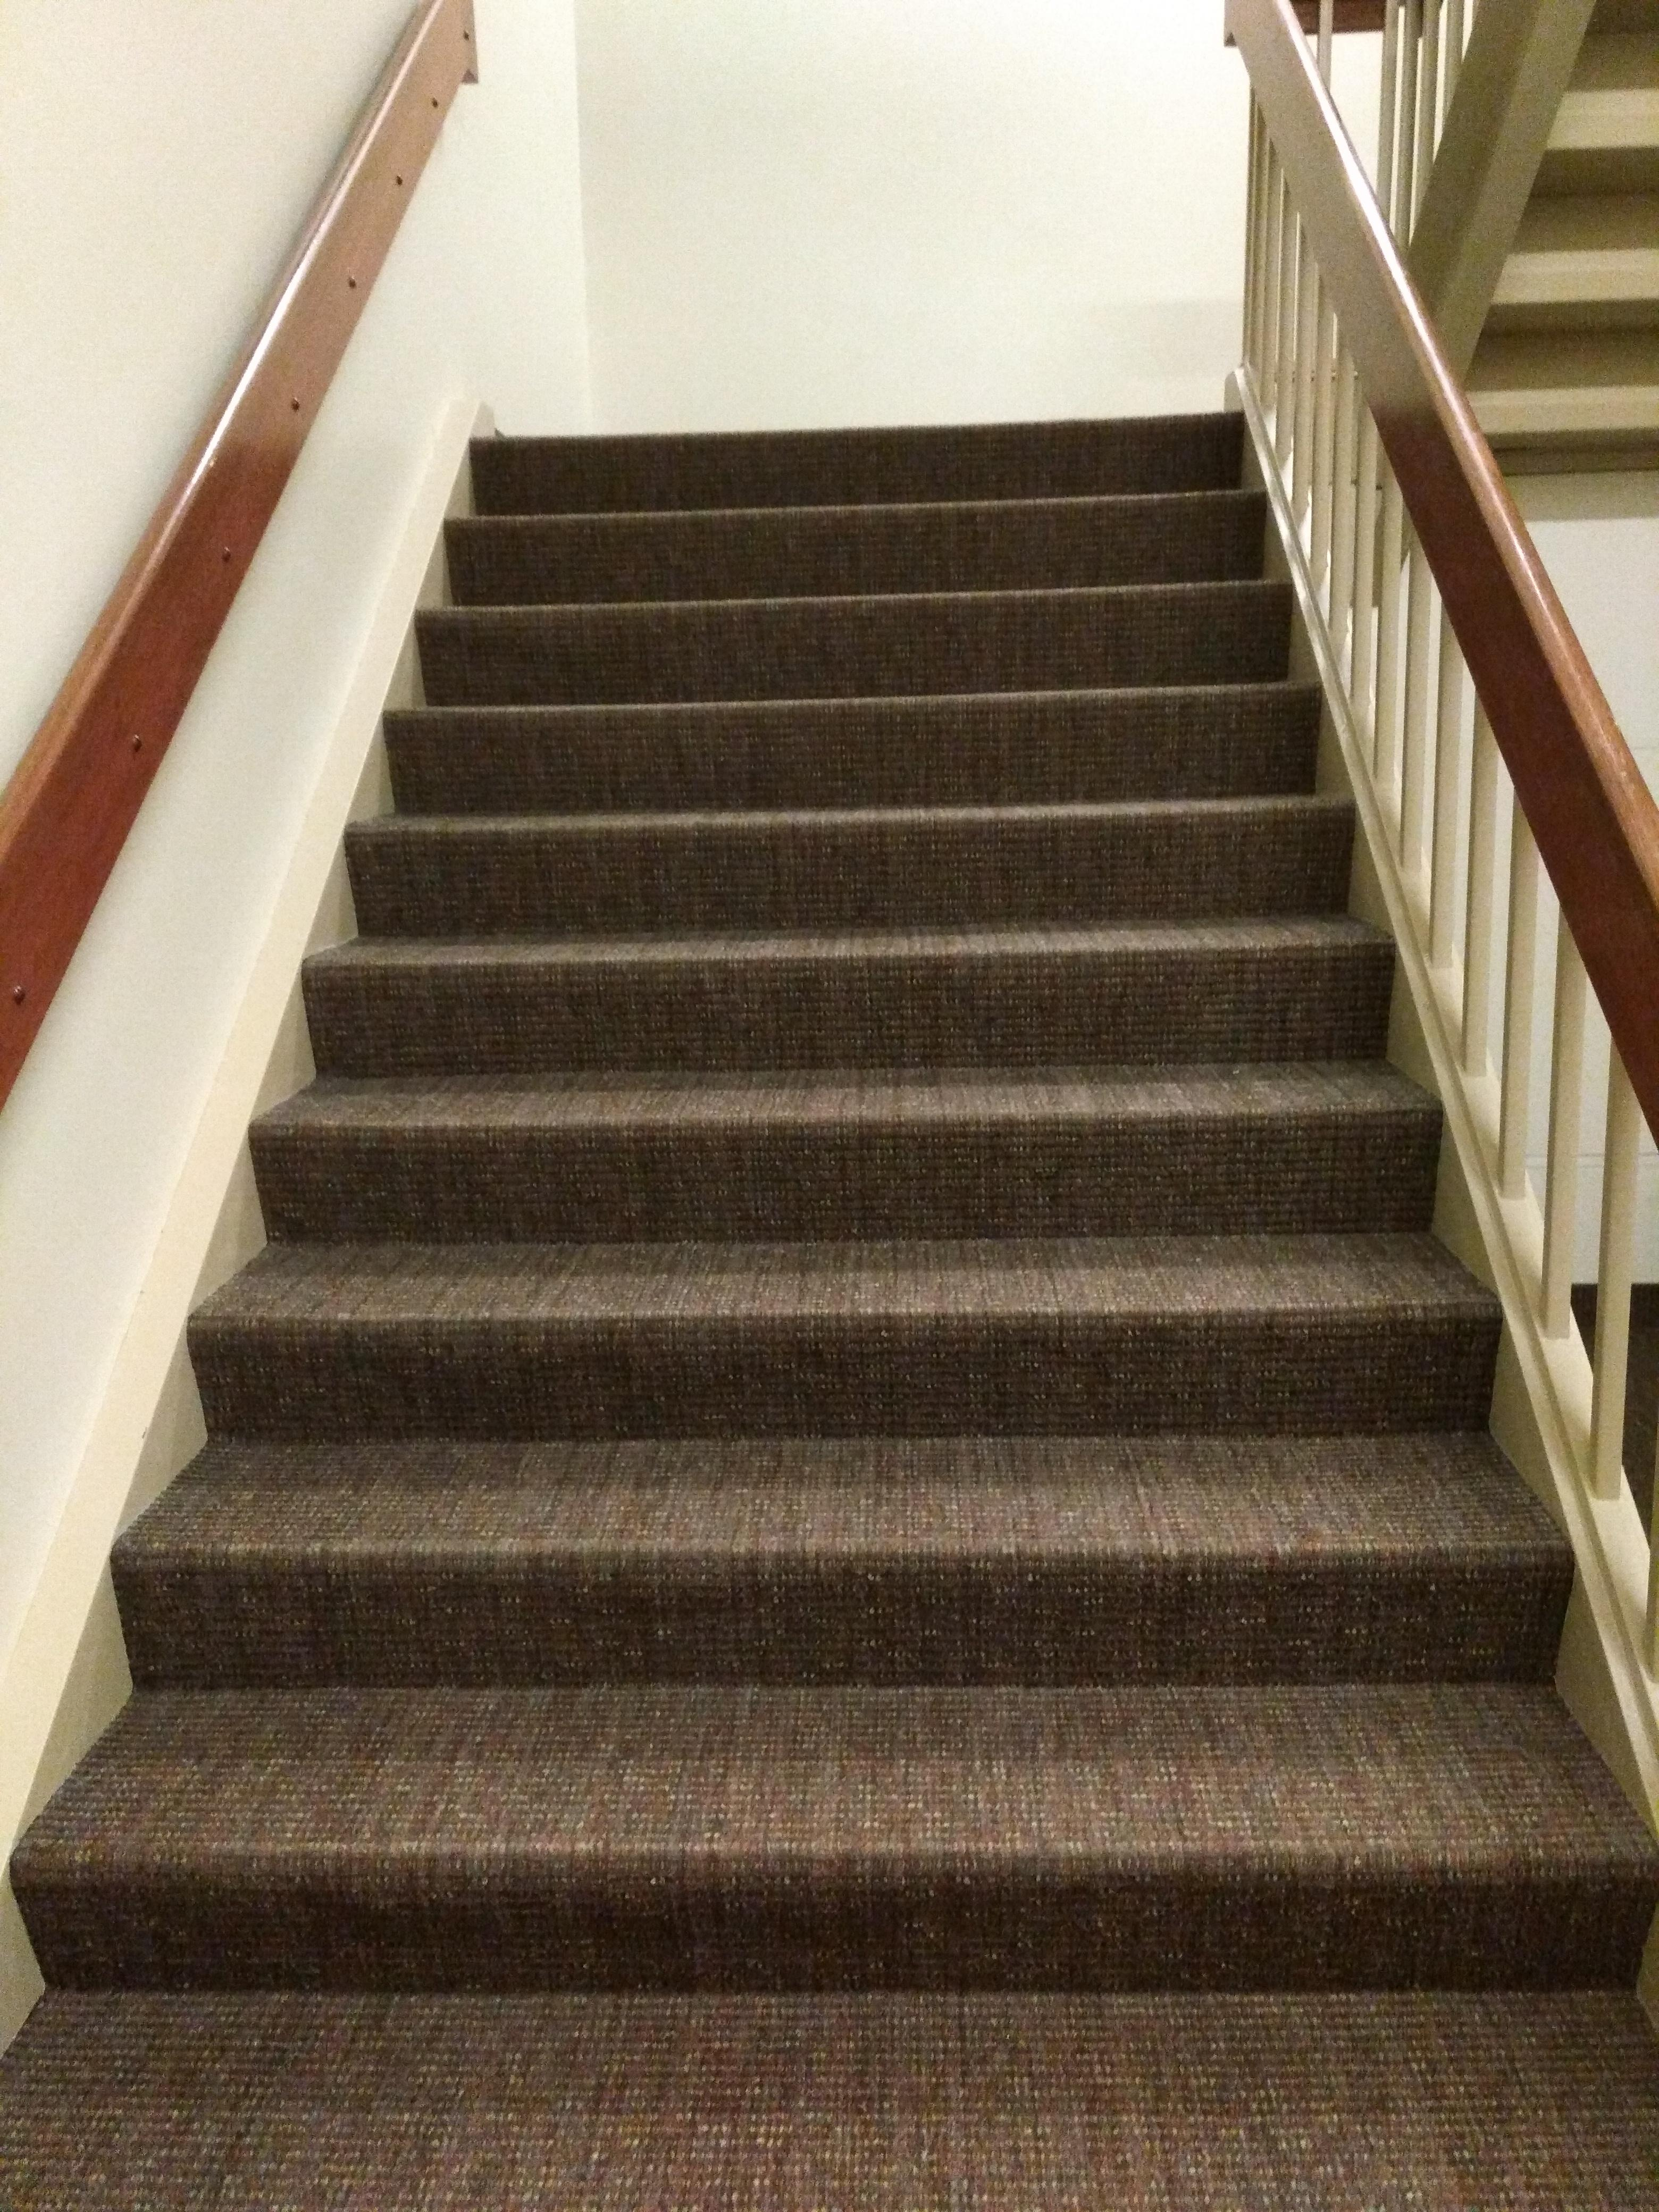stairs_up: (31, 401, 1659, 2033)
